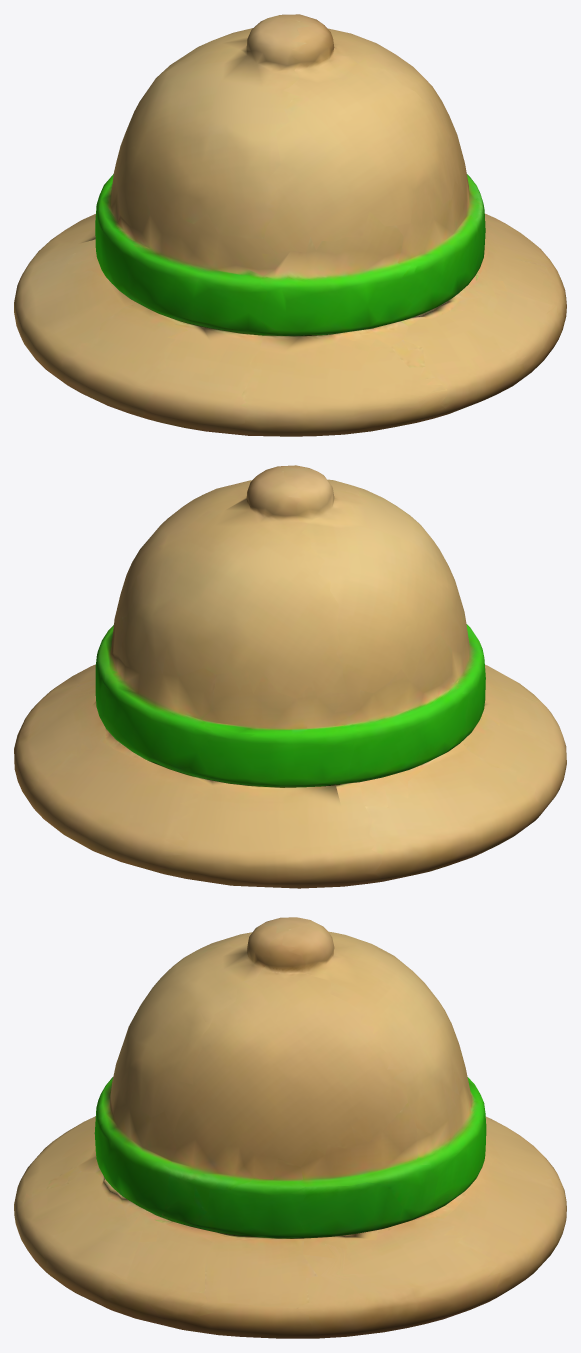
Rendered from hat-explorer.glb.
3 views of the same model, one above another, from view 1: azimuth 30°, elevation 25°; view 2: azimuth 150°, elevation 25°; view 3: azimuth 270°, elevation 25° (orthographic).
Visible parts, largest first — view 1: tripo_node_09adedc1-0374-4ddd-8a5a-0661695c89e9; view 2: tripo_node_09adedc1-0374-4ddd-8a5a-0661695c89e9; view 3: tripo_node_09adedc1-0374-4ddd-8a5a-0661695c89e9.
Part boxes in pixels (<box>): tripo_node_09adedc1-0374-4ddd-8a5a-0661695c89e9: <box>14,14,566,436</box>; tripo_node_09adedc1-0374-4ddd-8a5a-0661695c89e9: <box>14,465,566,888</box>; tripo_node_09adedc1-0374-4ddd-8a5a-0661695c89e9: <box>14,917,566,1338</box>.
Bounding box in the file's own units: 0.9995 × 0.6327 × 0.9989.
1 material, 1 textured.
